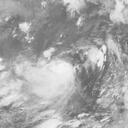cyclone: (24, 56, 78, 102)
